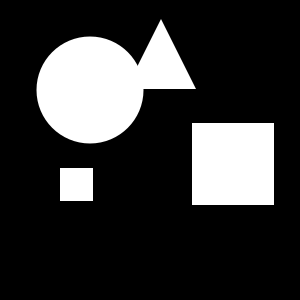circle: (192, 123, 274, 205), (60, 168, 93, 201)
rectangle: (36, 36, 144, 144)
triangle: (126, 19, 196, 89)
